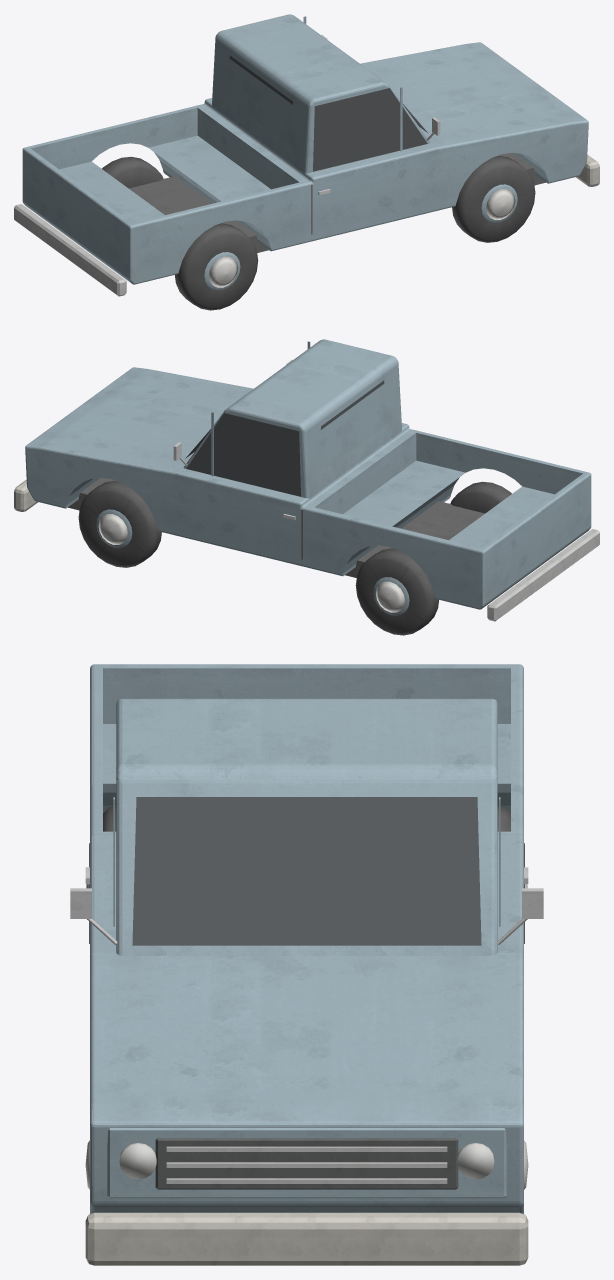
File: BC2_PICKUP01.glb
3 renders of one model, top to bottom at view 1: azimuth 30°, elevation 25°; view 2: azimuth 150°, elevation 25°; view 3: azimuth 270°, elevation 25°, orthographic. The views are drawn at different scales.
Visible parts, largest first — view 1: BC2_PICKUP01_paint, BC2_PICKUP01_rubber, BC2_PICKUP01_glass, BC2_PICKUP01_chrome, BC2_PICKUP01_trim; view 2: BC2_PICKUP01_paint, BC2_PICKUP01_rubber, BC2_PICKUP01_glass, BC2_PICKUP01_chrome, BC2_PICKUP01_trim; view 3: BC2_PICKUP01_paint, BC2_PICKUP01_glass, BC2_PICKUP01_trim, BC2_PICKUP01_chrome.
Part boxes in pixels (x1,y1,x2,y2): BC2_PICKUP01_paint: [22, 14, 599, 290]; BC2_PICKUP01_rubber: [102, 155, 535, 310]; BC2_PICKUP01_glass: [229, 55, 428, 171]; BC2_PICKUP01_chrome: [14, 34, 515, 296]; BC2_PICKUP01_trim: [129, 152, 545, 252]; BC2_PICKUP01_paint: [14, 339, 591, 615]; BC2_PICKUP01_rubber: [78, 480, 511, 635]; BC2_PICKUP01_glass: [185, 380, 384, 496]; BC2_PICKUP01_chrome: [98, 359, 599, 621]; BC2_PICKUP01_trim: [68, 477, 484, 577]; BC2_PICKUP01_paint: [85, 664, 528, 1265]; BC2_PICKUP01_glass: [132, 797, 481, 945]; BC2_PICKUP01_trim: [89, 843, 524, 1189]; BC2_PICKUP01_chrome: [70, 867, 543, 1189].
Bounding box in the file's own units: 5.07 × 1.86 × 2.16.
Materials: 5 (4 with a texture image).
